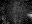person: (25, 13, 31, 18)
